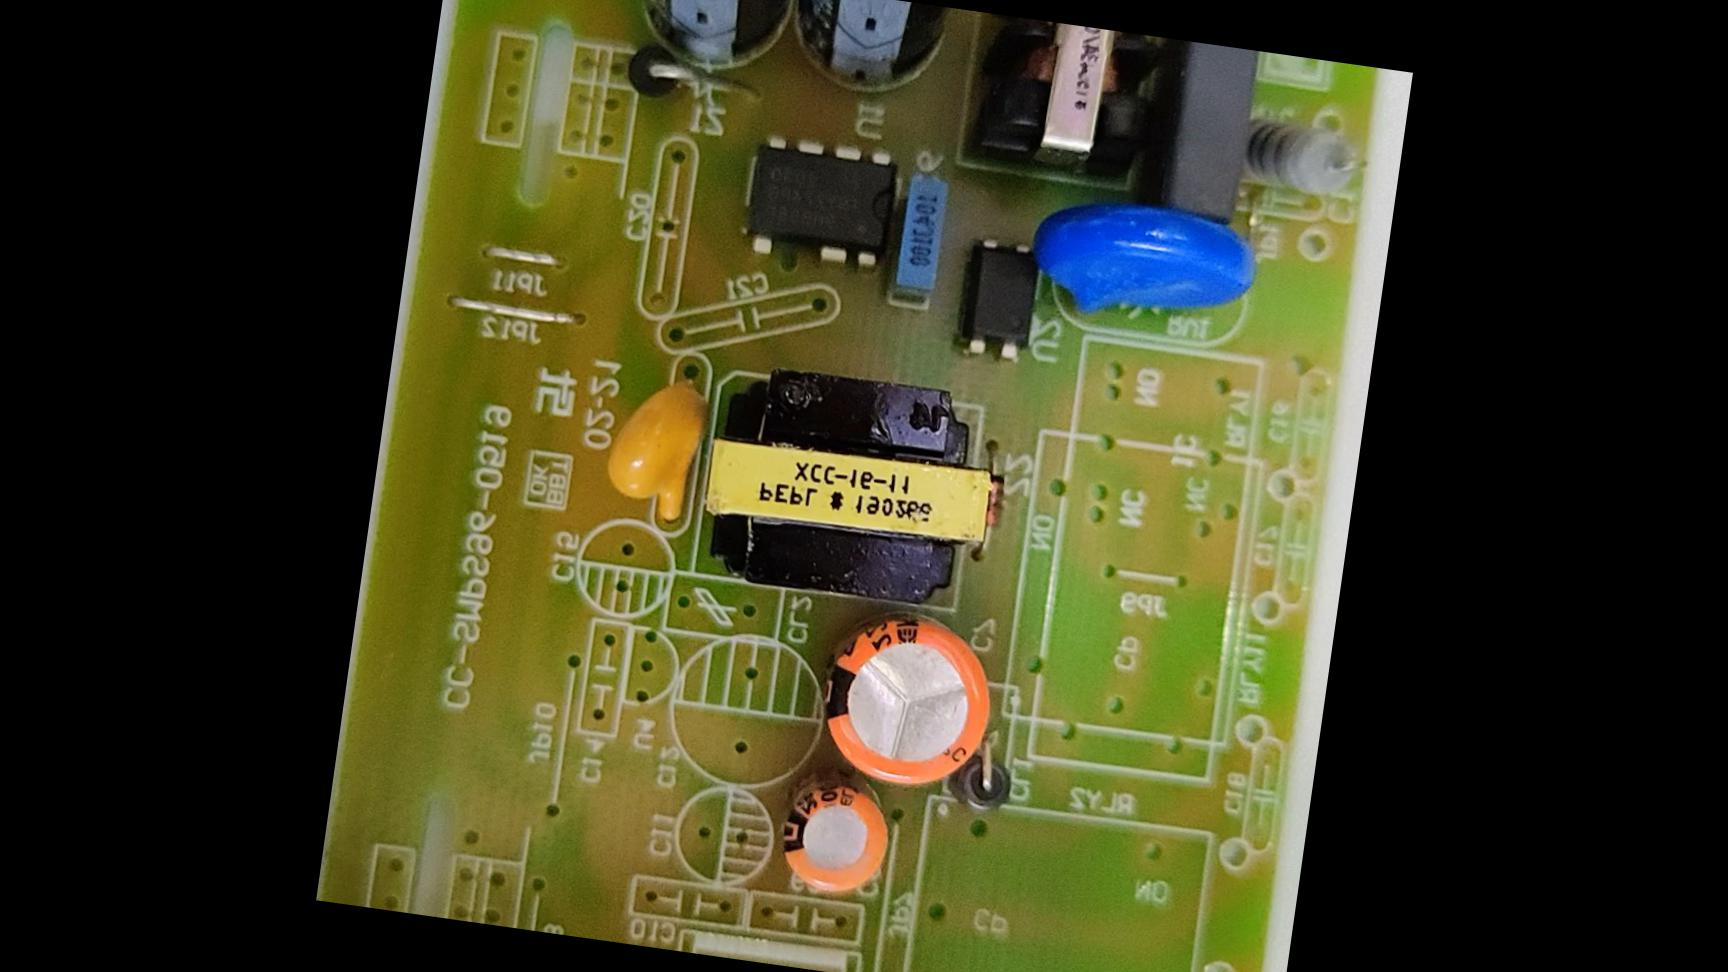Cap1: (794, 595, 1011, 805)
Cap2: (760, 771, 911, 914)
Cap3: (777, 0, 980, 114)
Cap4: (602, 0, 799, 94)
MOSFET: (730, 119, 908, 278)
Mov: (1014, 182, 1273, 343)
Resistor: (1232, 106, 1371, 208)
Transformer: (682, 344, 1014, 614), (966, 13, 1165, 170)
